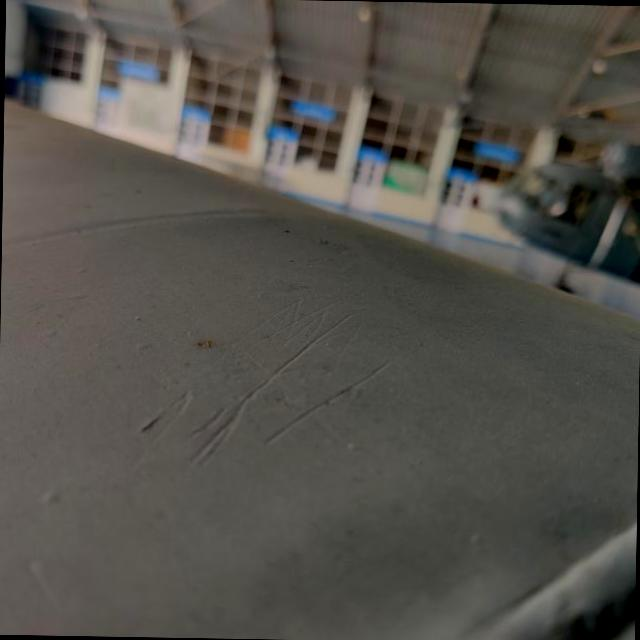scratch: (130, 286, 407, 489)
